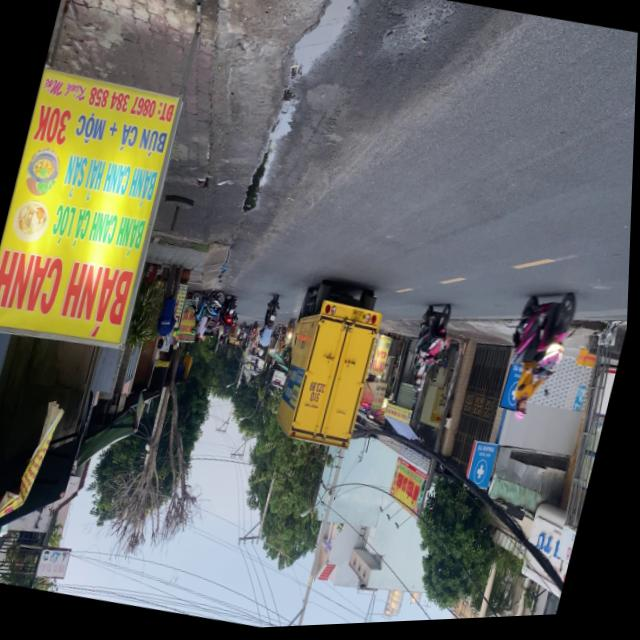licenseplate: (492, 284, 585, 436), (405, 302, 460, 399)
